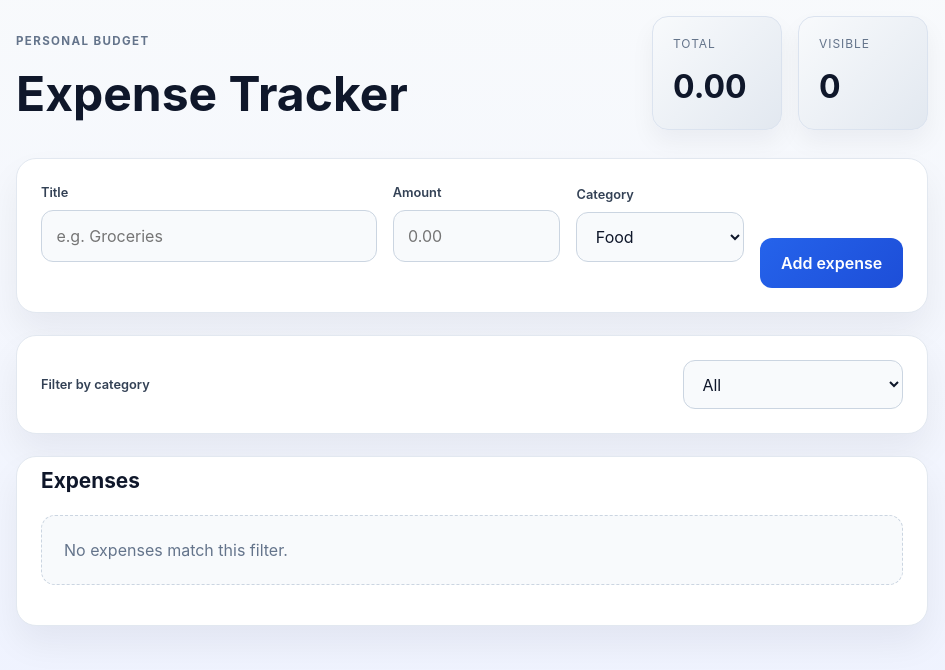
Test: Expense tracker validation › rejects empty titles and negative amounts without creating rows
The image size is (945, 670).
Click the button with test id "add-expense". click: (832, 263)
box: [760, 238, 903, 288]
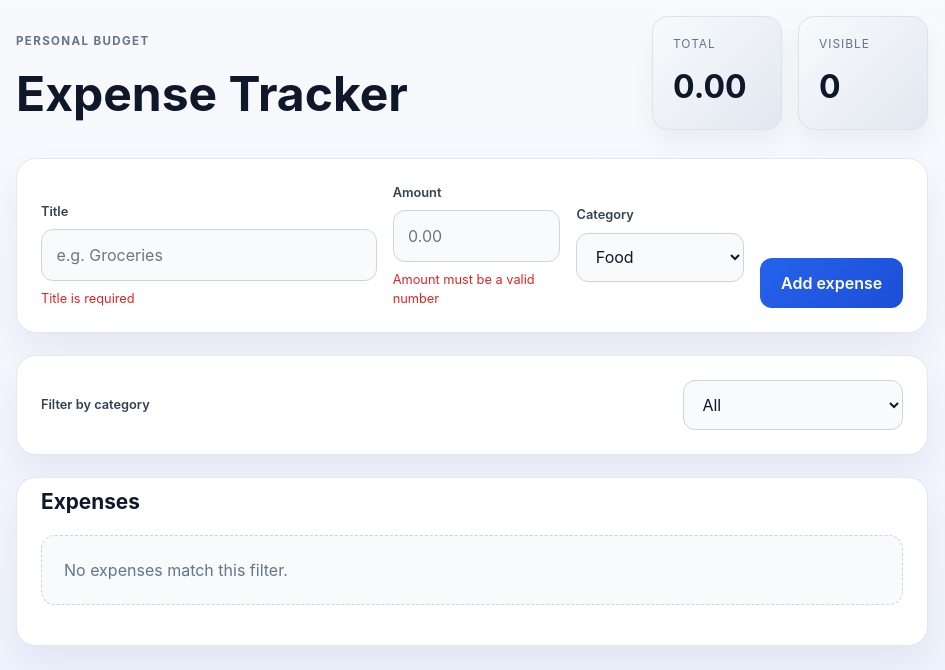
Check: the text "Title is required" is shown, box [41, 291, 135, 306]
Type "Lunch" into the field with test id "title". click: (209, 255)
box: [41, 229, 377, 281]
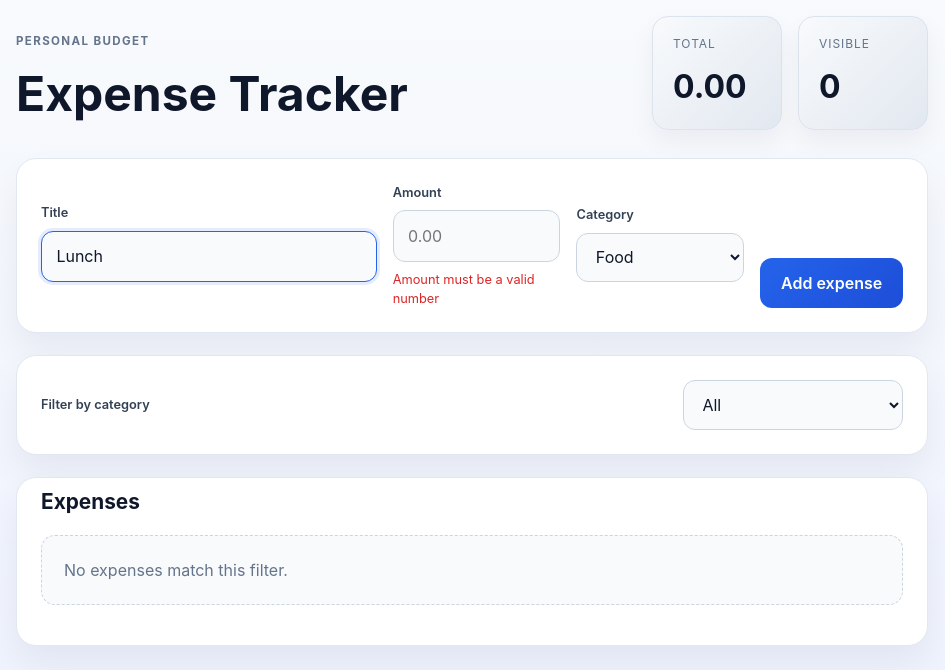
Type "-50" into the number field with test id "amount". click: (477, 236)
box: [393, 210, 561, 262]
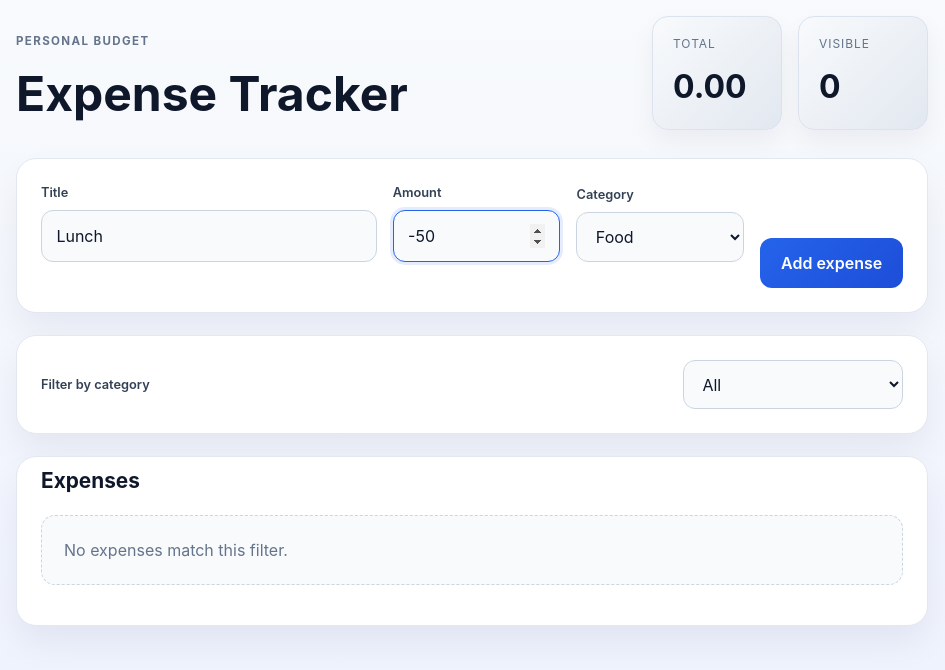
Click the button with test id "add-expense". click: (832, 263)
box: [760, 238, 903, 288]
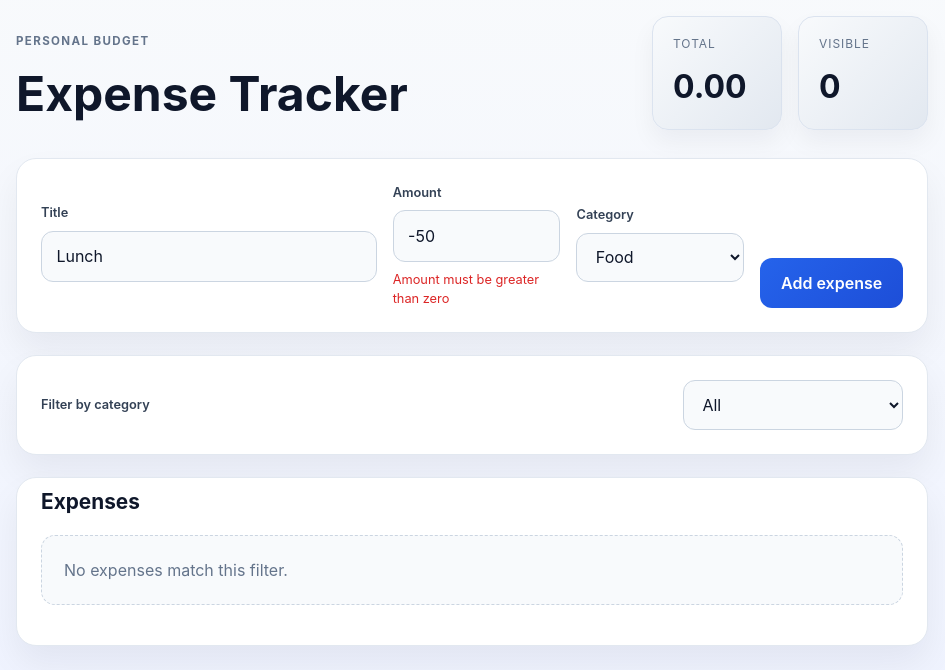
Check: the text "Amount must be greater than zero" is shown, box [393, 270, 560, 308]
